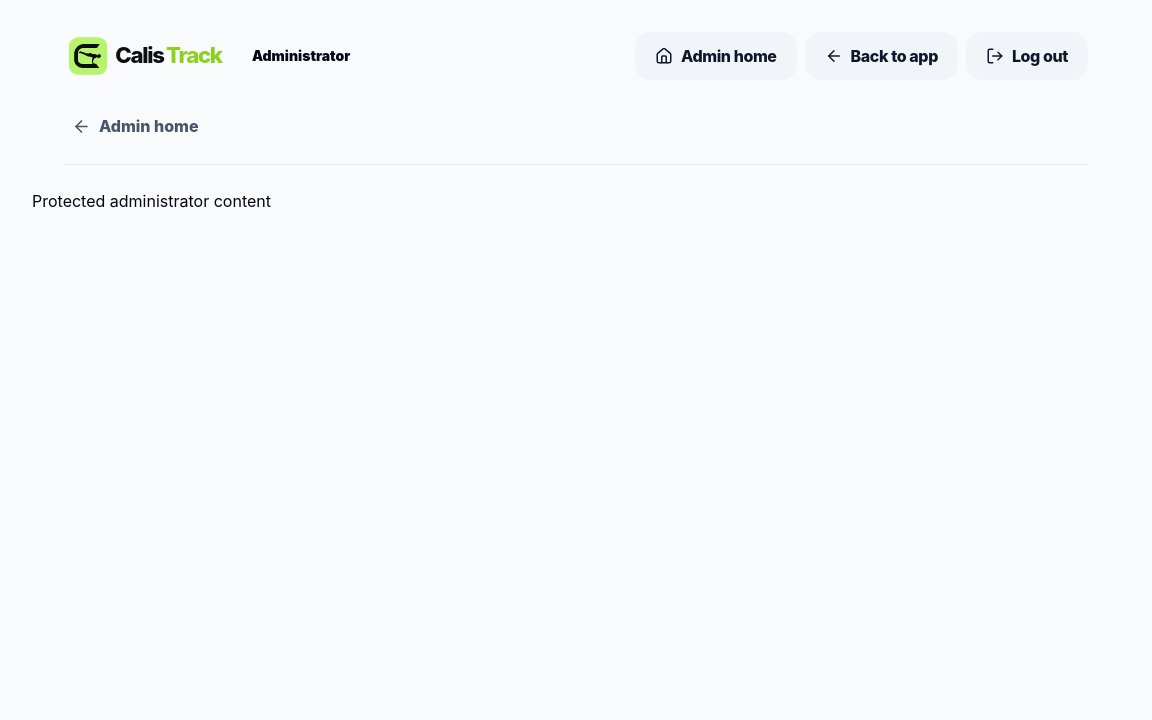
Test: administrator session experience › sign out immediately locks and unmounts the administrator UI
Expected: the text "Protected administrator content" is shown, [32,191,271,211]
Click the button "Log out" at (1027, 56), box [966,32,1088,80]
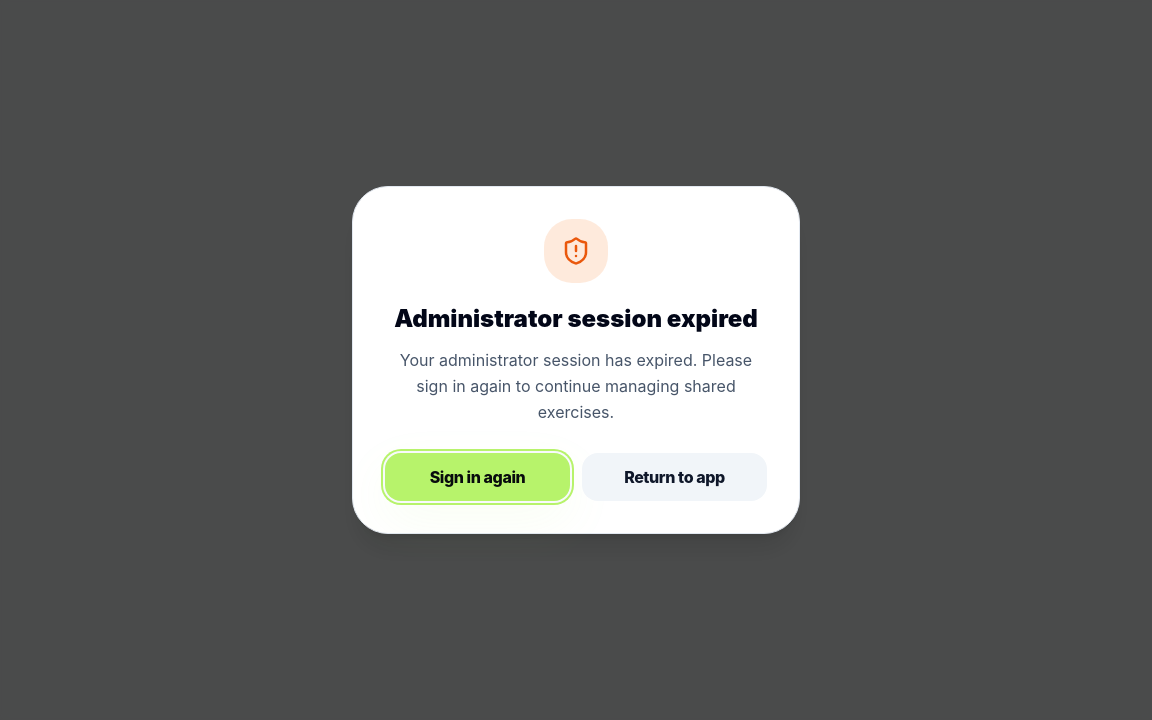
Result: the dialog "Administrator session expired" is shown at [352,186,800,534]
Result: the text "Protected administrator content" is gone
Result: the button "Log out" is gone
